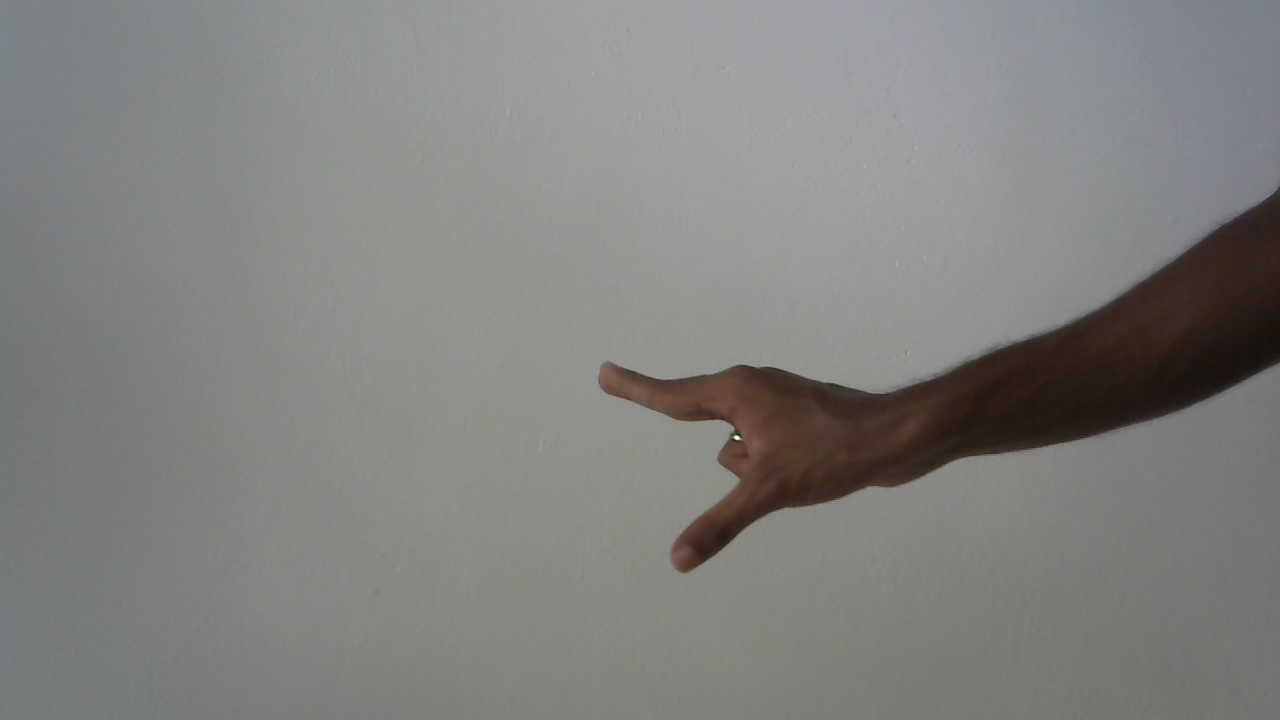no: (584, 347, 901, 577)
